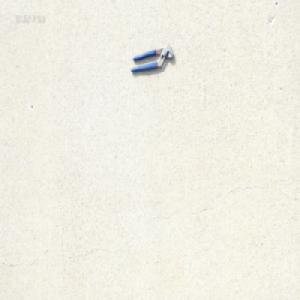Pliers: (129, 42, 174, 73)
